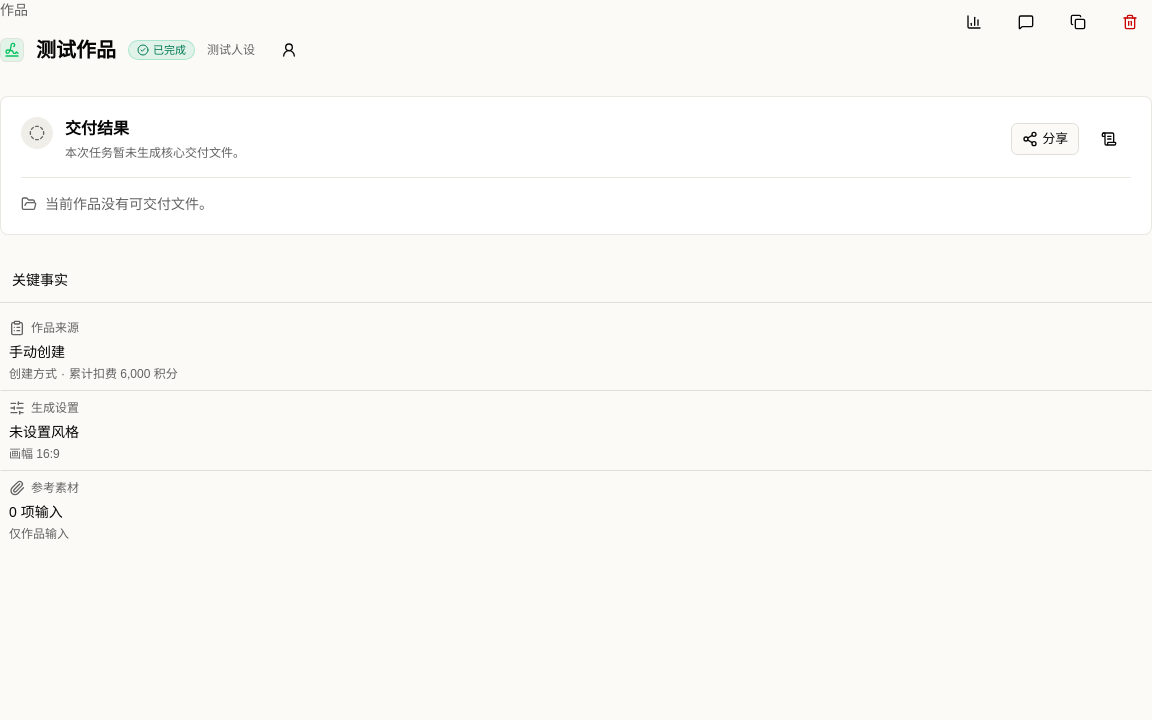
Test: TaskDetailPage › shows the frozen task profile without exposing provider or model details
The image size is (1152, 720).
Click the button with aria-label "打开作品概览". click: (55, 328)
box: [0,311,1151,391]
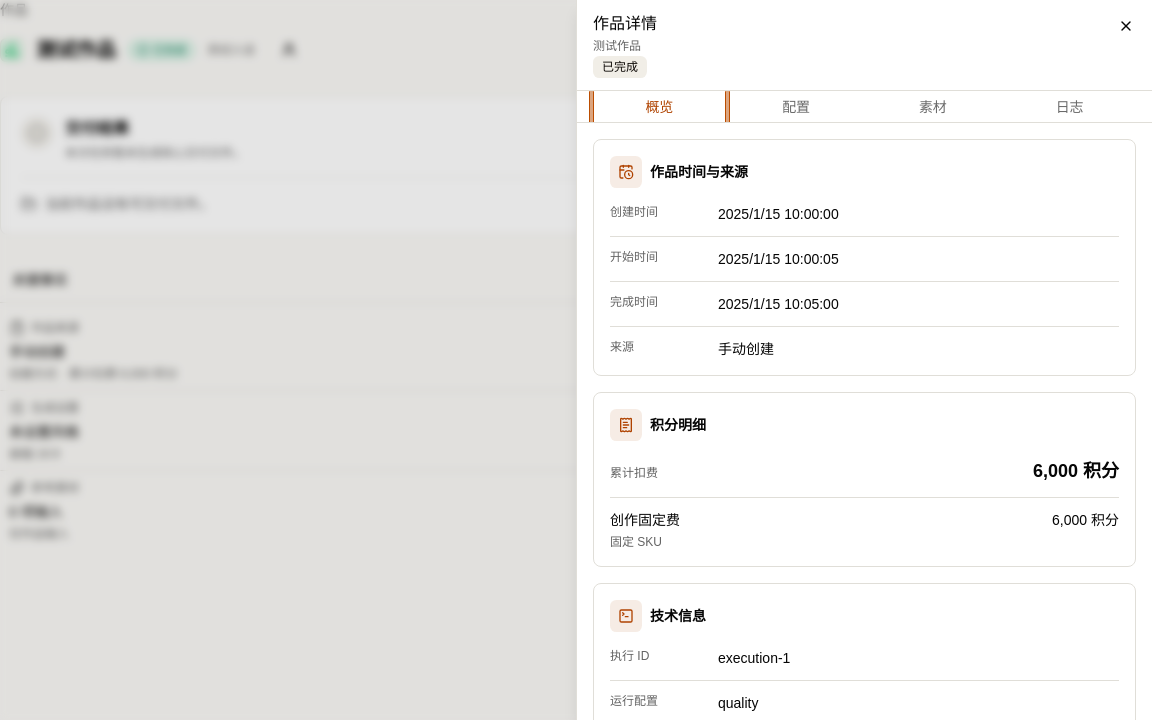
Expected: the heading "作品详情" is shown, [593,15,657,32]
Click the tab "配置". click: (796, 106)
box: [730,84,863,128]
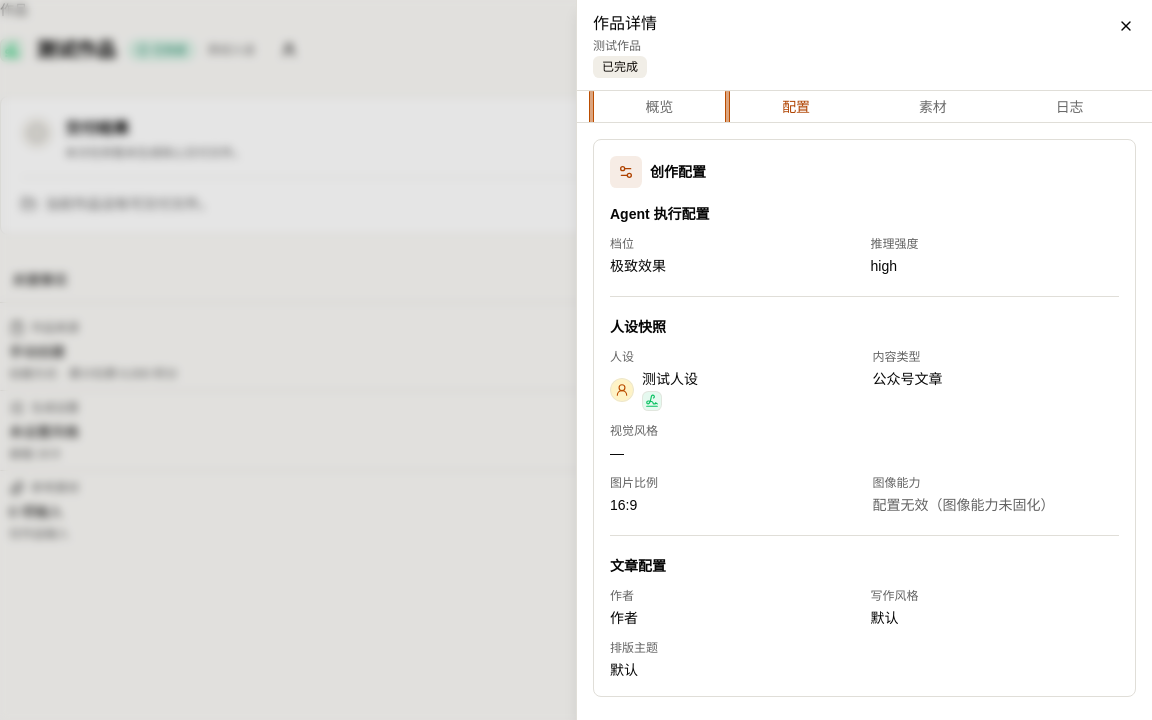
Expected: the text "极致效果" is shown, [610,258,666,274]
Expected: the text "high" is shown, [870,258,897,274]
